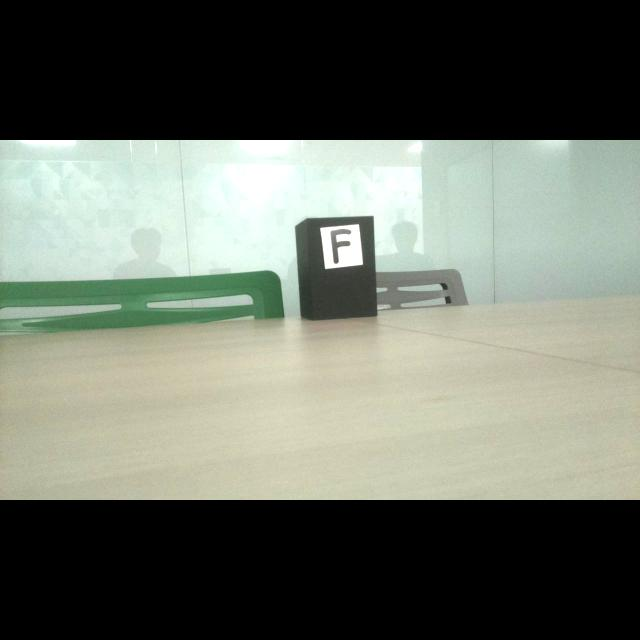F: (331, 229, 352, 264)
